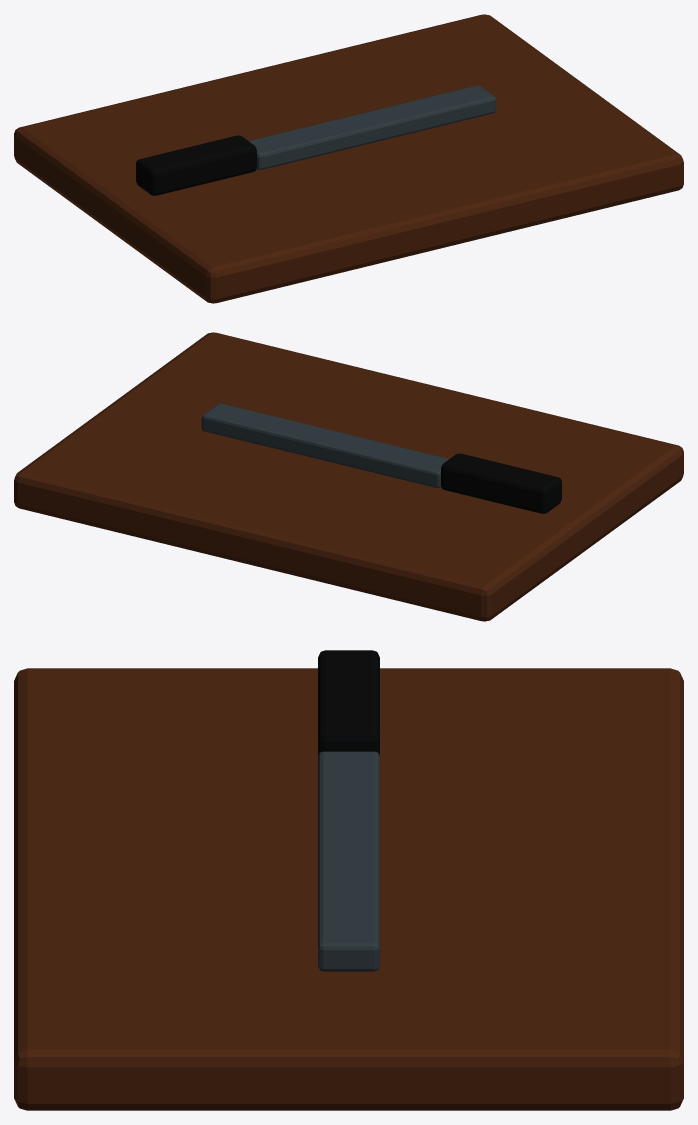
File: ChoppingBoard.fbx
3 views of the same model, one above another, from view 1: azimuth 30°, elevation 25°; view 2: azimuth 150°, elevation 25°; view 3: azimuth 270°, elevation 25° (orthographic). The views are drawn at different scales.
Visible parts, largest first — view 1: ChoppingBoard; view 2: ChoppingBoard; view 3: ChoppingBoard.
Part boxes in pixels (<box>): ChoppingBoard: <box>14,14,683,303</box>; ChoppingBoard: <box>14,332,683,621</box>; ChoppingBoard: <box>14,650,683,1110</box>.
Size of the model in its own units: 36 by 26 by 4.45.
